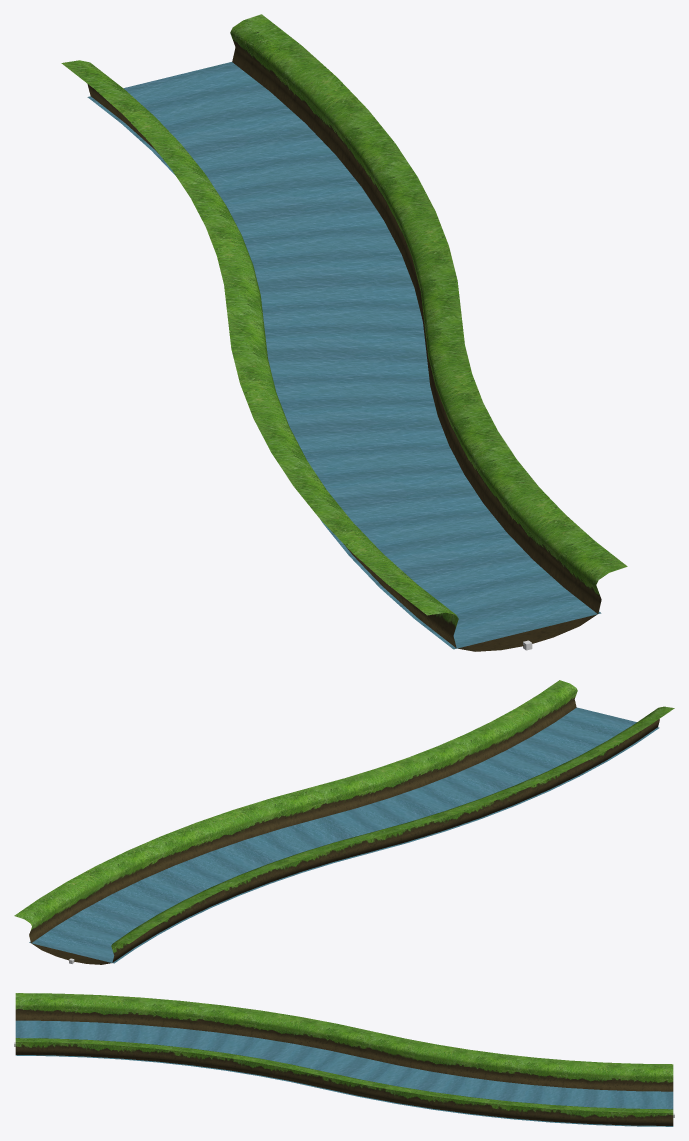
File: roadShift.right2.fbx
The picture shows the model from 3 angles, top to bottom: view 1: azimuth 30°, elevation 25°; view 2: azimuth 150°, elevation 25°; view 3: azimuth 270°, elevation 25°; orthographic projection. The views are drawn at different scales.
Parts seen in each view (by area): view 1: MESH roadShift.right2; view 2: MESH roadShift.right2; view 3: MESH roadShift.right2.
Part boxes in pixels (x1,y1,x2,y2): MESH roadShift.right2: (61,14,627,651); MESH roadShift.right2: (14,680,674,964); MESH roadShift.right2: (15,993,673,1126).
Size of what is drawn, in the model's own units: 4147 by 463 by 9650.
